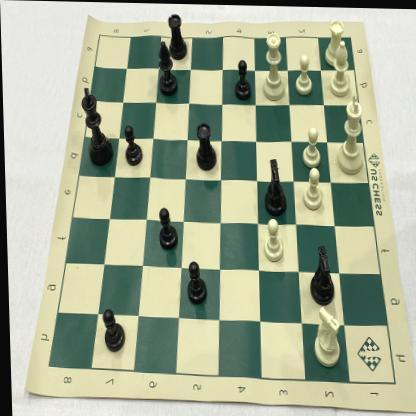black-bishop: (155, 36, 179, 98)
black-king: (78, 85, 114, 168)
black-knight: (305, 240, 336, 306), (258, 154, 288, 217)
black-pawn: (182, 256, 209, 308), (99, 307, 126, 357), (155, 203, 178, 252), (120, 122, 143, 170), (231, 56, 253, 103)
black-rook: (193, 120, 218, 173), (166, 8, 189, 62)
white-bishop: (325, 32, 354, 99)
white-king: (330, 91, 367, 176)
white-knight: (306, 303, 343, 369)
white-pawn: (298, 163, 324, 211), (260, 215, 285, 264), (299, 123, 323, 171), (292, 51, 314, 97)
white-queen: (257, 26, 286, 104)
white-rook: (322, 15, 347, 68)
